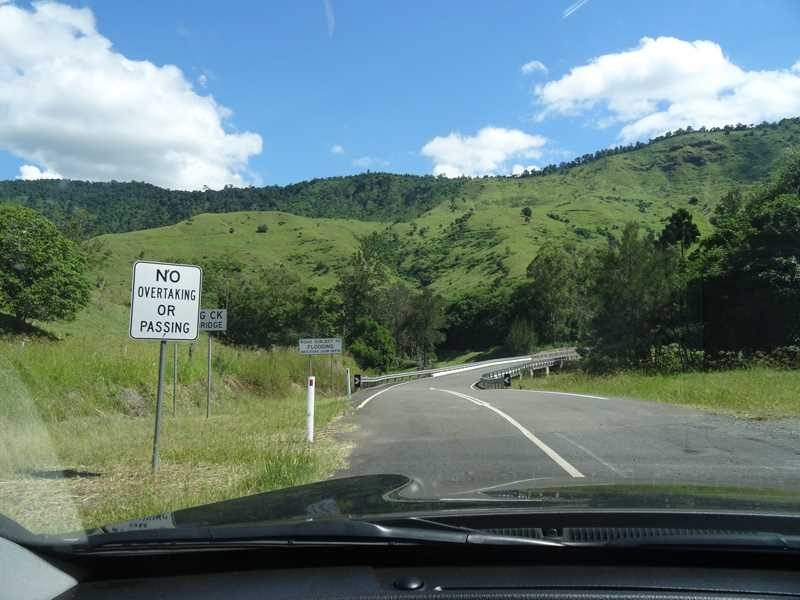text: (145, 286, 160, 303), (161, 286, 176, 303), (177, 286, 192, 303), (161, 269, 176, 285), (161, 304, 177, 318), (145, 321, 160, 335), (161, 321, 176, 335), (177, 321, 191, 335), (209, 310, 224, 321), (209, 321, 225, 330), (321, 344, 336, 351), (138, 286, 144, 303), (306, 344, 320, 351), (193, 286, 198, 303), (177, 269, 182, 285), (200, 311, 208, 321), (305, 339, 320, 344), (321, 339, 336, 344), (156, 269, 160, 285), (201, 321, 208, 330), (305, 351, 320, 354), (321, 351, 336, 354), (141, 321, 144, 335), (337, 339, 344, 344), (158, 304, 160, 318), (300, 339, 304, 344), (298, 351, 304, 354), (337, 351, 343, 354)
